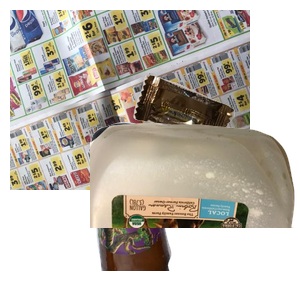glass: (88, 120, 252, 300)
paper: (10, 10, 250, 190)
plastic: (90, 120, 300, 300)
trash: (131, 73, 300, 202)
